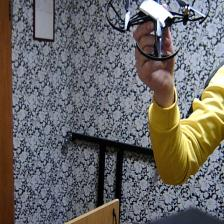drone: (101, 0, 216, 63)
